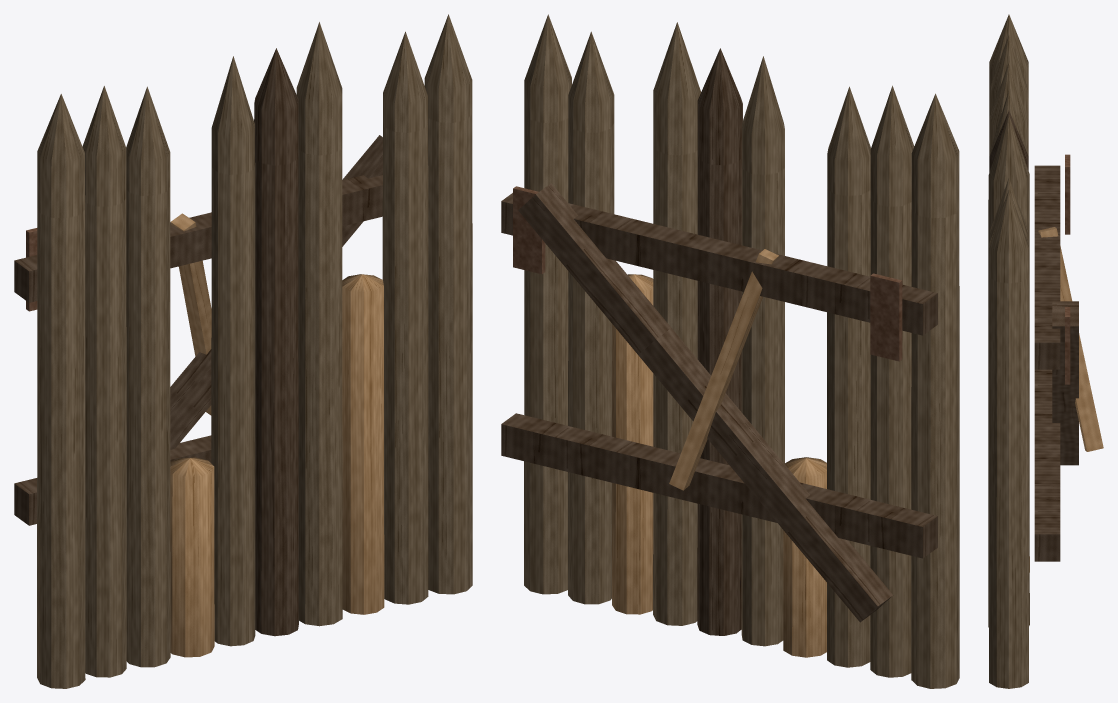
File: PZ_Palisade_Damaged_2m.glb
The picture shows the model from 3 angles, left to right: view 1: azimuth 30°, elevation 25°; view 2: azimuth 150°, elevation 25°; view 3: azimuth 270°, elevation 25°; orthographic projection. The views are drawn at different scales.
Visible parts, largest first — view 1: DAMAGED__FENCE_Log_01, DAMAGED__FENCE_Log_07, DAMAGED__FENCE_Log_10, DAMAGED__FENCE_Log_06, DAMAGED__FENCE_Log_03, DAMAGED__FENCE_Log_09, DAMAGED__FENCE_Log_05, DAMAGED__FENCE_Log_02, DAMAGED__FENCE_Log_08, DAMAGED__FENCE_Log_04, DAMAGED__FENCE_Rear_CrossRail_2, DAMAGED__FENCE_Rear_DiagonalBrace (+2 smaller); view 2: DAMAGED__FENCE_Log_01, DAMAGED__FENCE_Rear_DiagonalBrace, DAMAGED__FENCE_Log_10, DAMAGED__FENCE_Log_09, DAMAGED__FENCE_Log_07, DAMAGED__FENCE_Log_02, DAMAGED__FENCE_Log_05, DAMAGED__FENCE_Log_03, DAMAGED__FENCE_Log_06, DAMAGED__FENCE_Rear_CrossRail_1, DAMAGED__FENCE_Rear_CrossRail_2, DAMAGED__FENCE_Log_08 (+4 smaller); view 3: DAMAGED__FENCE_Log_10, DAMAGED__FENCE_Rear_CrossRail_2, DAMAGED__FENCE_Rear_CrossRail_1, DAMAGED__FENCE_Log_07, DAMAGED__FENCE_Rear_DiagonalBrace, DAMAGED__FENCE_Broken_Brace_Splinter, DAMAGED__FENCE_Log_03, DAMAGED__FENCE_Log_01, DAMAGED__FENCE_Log_02, DAMAGED__FENCE_Log_05, DAMAGED__FENCE_Log_09, DAMAGED__FENCE_Forged_CornerStrap_1 (+2 smaller).
Part boxes in pixels (<box>): DAMAGED__FENCE_Log_01: <box>37,94,85,688</box>; DAMAGED__FENCE_Log_07: <box>296,22,342,626</box>; DAMAGED__FENCE_Log_10: <box>424,14,472,594</box>; DAMAGED__FENCE_Log_06: <box>254,48,298,636</box>; DAMAGED__FENCE_Log_03: <box>126,86,170,667</box>; DAMAGED__FENCE_Log_09: <box>382,31,428,604</box>; DAMAGED__FENCE_Log_05: <box>211,56,255,646</box>; DAMAGED__FENCE_Log_02: <box>82,86,126,677</box>; DAMAGED__FENCE_Log_08: <box>342,274,384,614</box>; DAMAGED__FENCE_Log_04: <box>170,457,214,657</box>; DAMAGED__FENCE_Rear_CrossRail_2: <box>14,175,382,302</box>; DAMAGED__FENCE_Rear_DiagonalBrace: <box>170,135,382,449</box>; DAMAGED__FENCE_Log_01: <box>911,93,959,688</box>; DAMAGED__FENCE_Rear_DiagonalBrace: <box>518,183,893,622</box>; DAMAGED__FENCE_Log_10: <box>524,14,571,594</box>; DAMAGED__FENCE_Log_09: <box>568,31,614,604</box>; DAMAGED__FENCE_Log_07: <box>653,22,700,625</box>; DAMAGED__FENCE_Log_02: <box>870,85,914,677</box>; DAMAGED__FENCE_Log_05: <box>741,56,784,646</box>; DAMAGED__FENCE_Log_03: <box>827,86,870,667</box>; DAMAGED__FENCE_Log_06: <box>697,48,742,635</box>; DAMAGED__FENCE_Rear_CrossRail_1: <box>501,413,937,558</box>; DAMAGED__FENCE_Rear_CrossRail_2: <box>501,193,937,335</box>; DAMAGED__FENCE_Log_08: <box>612,274,653,614</box>; DAMAGED__FENCE_Log_10: <box>989,190,1028,688</box>; DAMAGED__FENCE_Rear_CrossRail_2: <box>1034,165,1060,369</box>; DAMAGED__FENCE_Rear_CrossRail_1: <box>1034,369,1060,561</box>; DAMAGED__FENCE_Log_07: <box>988,115,1029,627</box>; DAMAGED__FENCE_Rear_DiagonalBrace: <box>1052,301,1078,465</box>; DAMAGED__FENCE_Broken_Brace_Splinter: <box>1038,227,1103,451</box>; DAMAGED__FENCE_Log_03: <box>989,62,1028,155</box>; DAMAGED__FENCE_Log_01: <box>989,14,1028,156</box>; DAMAGED__FENCE_Log_02: <box>990,35,1027,115</box>; DAMAGED__FENCE_Log_05: <box>990,90,1027,154</box>; DAMAGED__FENCE_Log_09: <box>990,178,1028,241</box>; DAMAGED__FENCE_Forged_CornerStrap_1: <box>1065,154,1070,234</box>.
Bounding box in the file's own units: 2 × 2.64 × 0.5411.
Materials: 4 (4 with a texture image).
